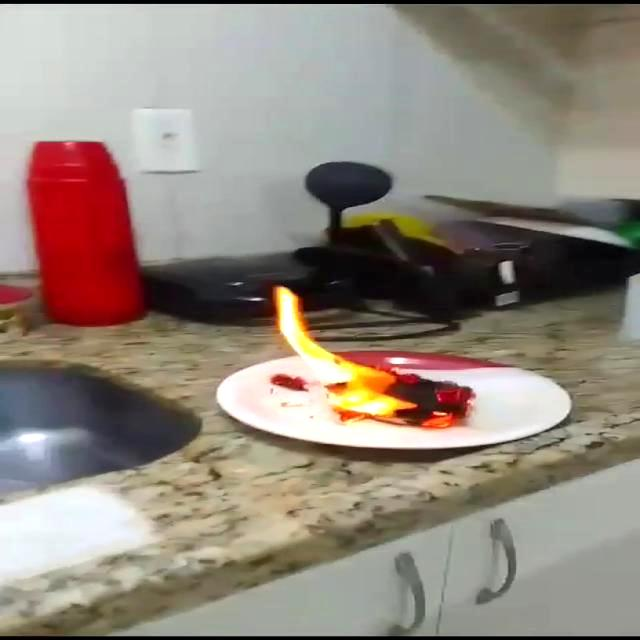fire: (268, 284, 484, 434)
